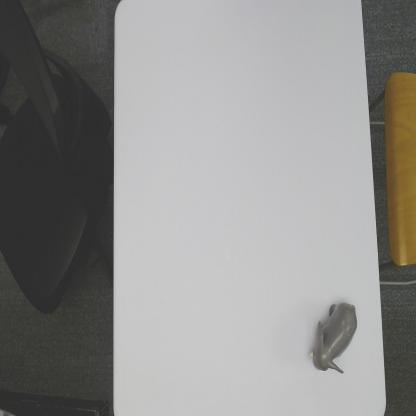Elephant: (309, 300, 359, 376)
